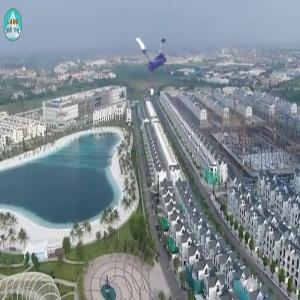drone: (122, 26, 187, 91)
